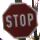Stop sign: (0, 0, 39, 39)
